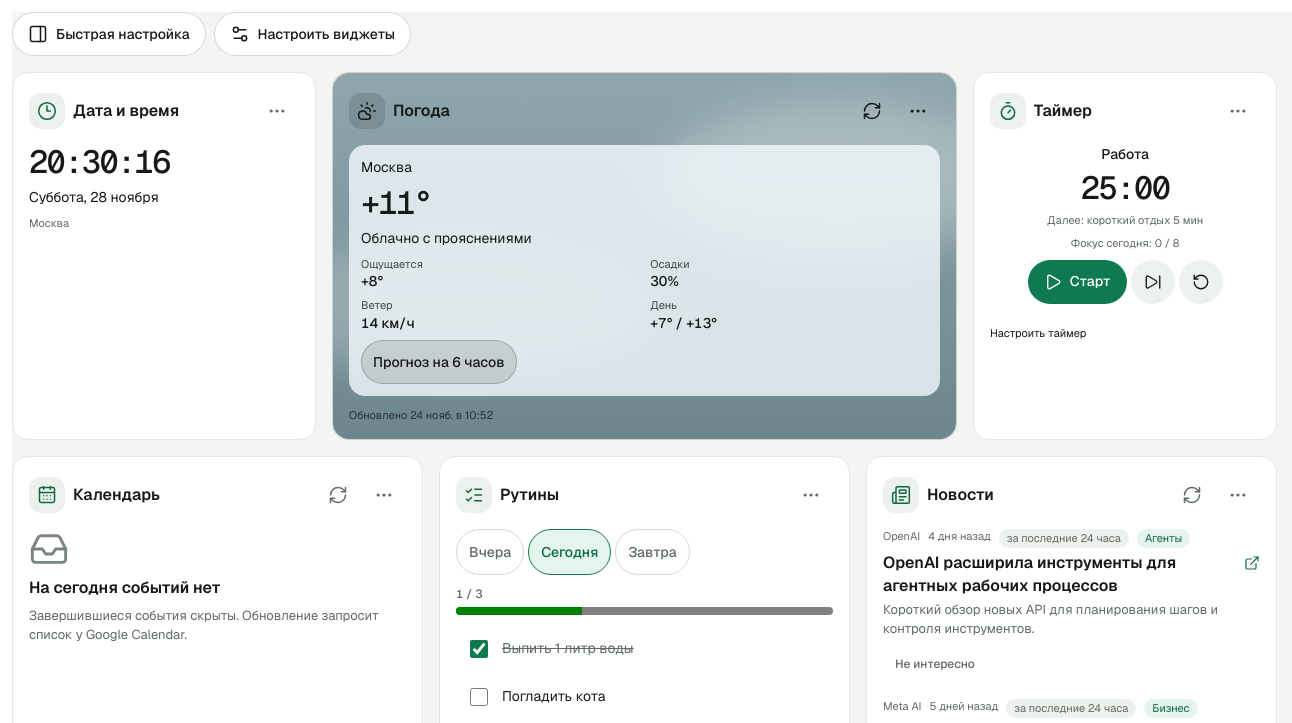
Test case: обновление календаря › после отказа подключения предлагает подключить календарь
Check: the heading "На сегодня событий нет" is shown, box [29,577,221,600]
Click the button named "Обновить виджет «Календарь»" at {"x": 338, "y": 495}, box [316,473,360,517]
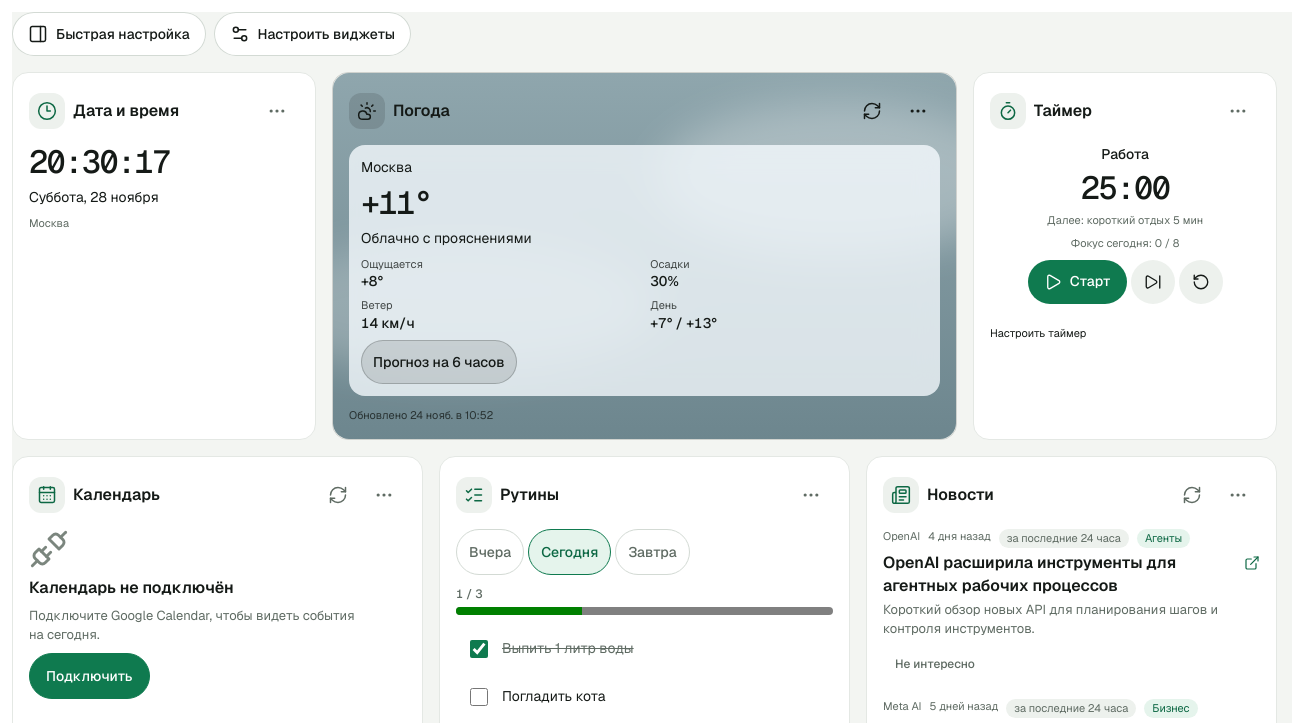
Check: the heading "Календарь не подключён" is shown, box [29,577,234,600]
